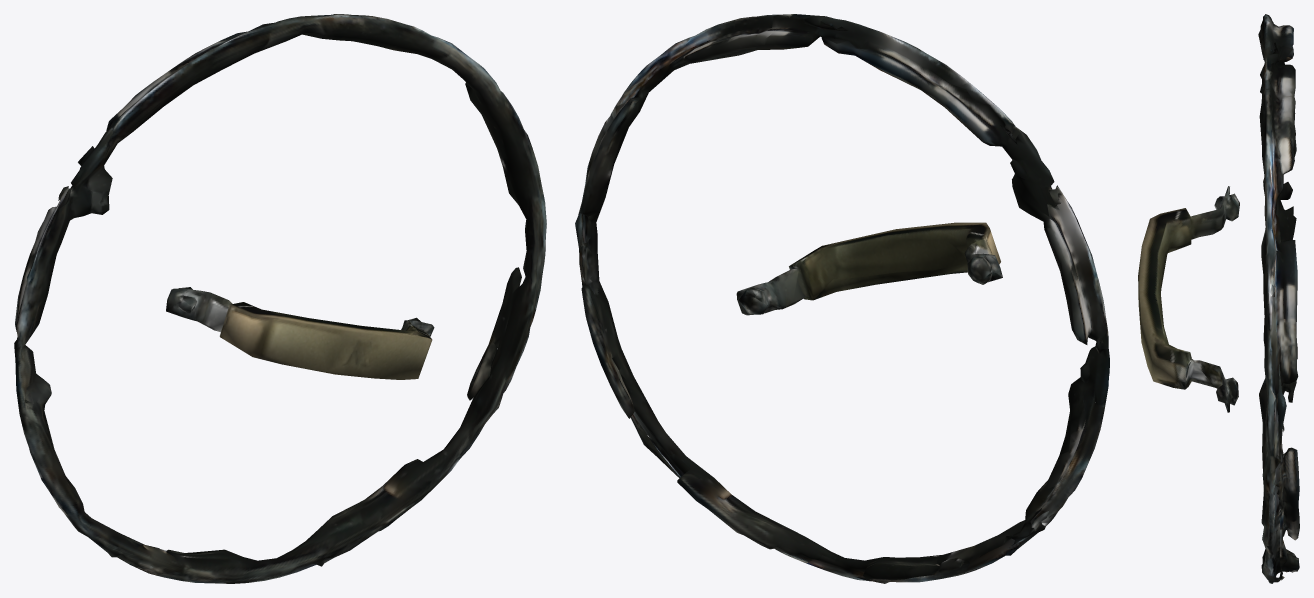
3 renders of one model, left to right at view 1: azimuth 30°, elevation 25°; view 2: azimuth 150°, elevation 25°; view 3: azimuth 270°, elevation 25°, orthographic. The views are drawn at different scales.
Parts seen in each view (by area): view 1: textured.039; view 2: textured.039; view 3: textured.039.
Part boxes in pixels (box(x1,y1,x2,y2)): textured.039: box(14, 14, 546, 583); textured.039: box(575, 14, 1109, 583); textured.039: box(1138, 14, 1299, 583).
Size of the model in its own units: 0.2682 by 0.2688 by 0.076.
1 material, 1 textured.
